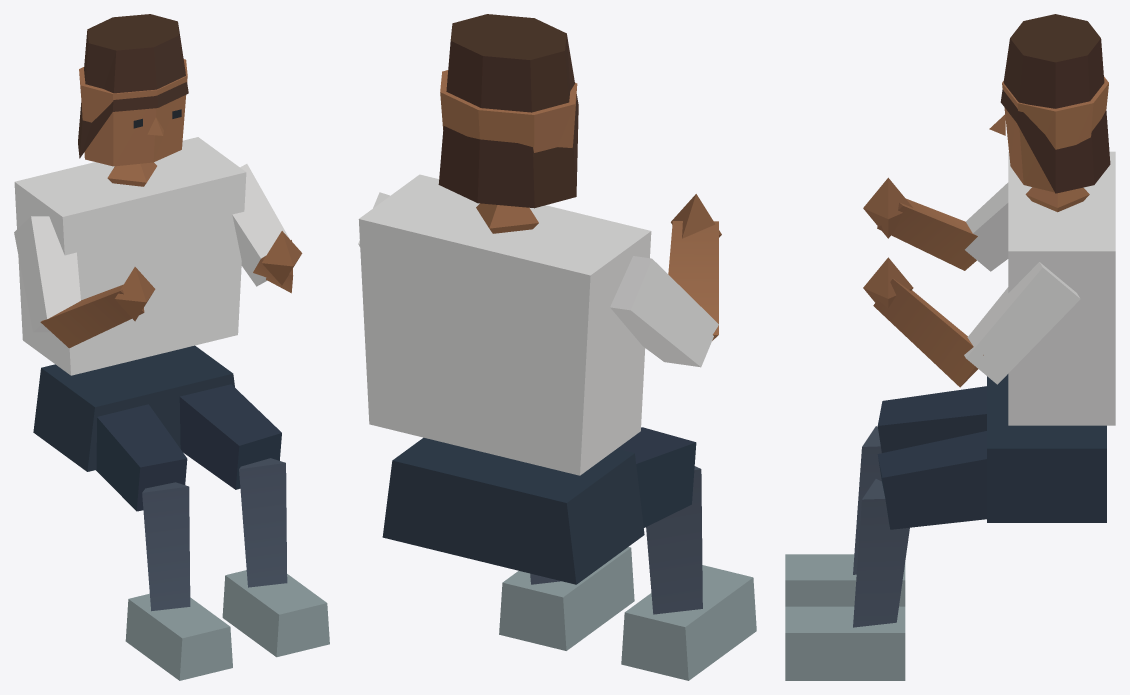
File: fan-06.glb
3 renders of one model, left to right at view 1: azimuth 30°, elevation 25°; view 2: azimuth 150°, elevation 25°; view 3: azimuth 270°, elevation 25°, orthographic. The views are drawn at different scales.
Visible parts, largest first — view 1: fan-06; view 2: fan-06; view 3: fan-06.
Boxes of the visible parts, box(x1,y1,x2,y2) form: fan-06: box(14, 14, 329, 680); fan-06: box(358, 14, 756, 680); fan-06: box(785, 14, 1115, 680).
Size of the model in its own units: 0.7672 by 1.55 by 0.77.
